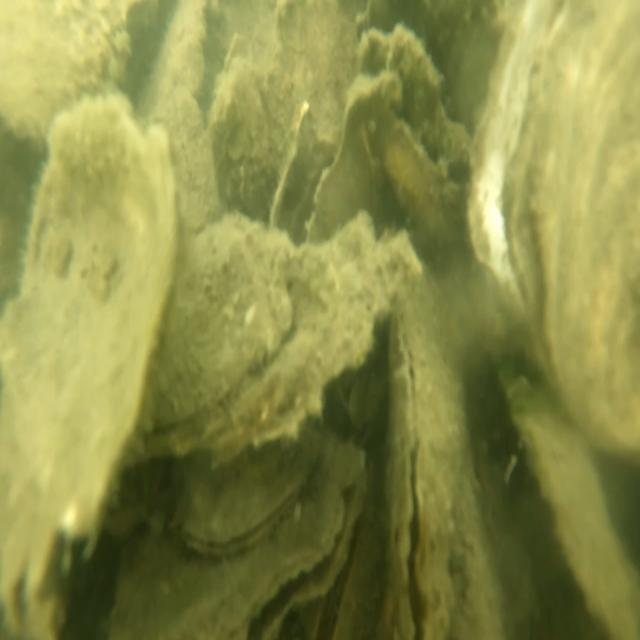Oyster-Closed: (128, 212, 413, 452), (497, 0, 640, 458), (167, 430, 320, 558), (209, 40, 279, 224)
Oyster-Indeterminate: (0, 90, 180, 640), (502, 363, 640, 640), (271, 107, 331, 240)
Oyster-Open: (105, 439, 365, 640), (382, 274, 508, 640), (310, 20, 473, 276)
